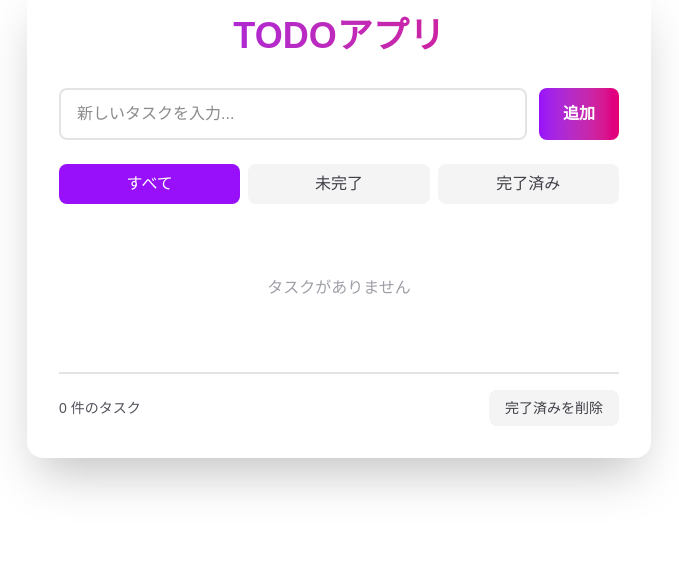
TodoList › フィルター機能 › 「未完了」フィルターで未完了タスクのみ表示されること
Type "未完了タスク1" into the field with placeholder "新しいタスクを入力..." at [293, 114], box x1=59 y1=88 x2=527 y2=140
Then press Enter
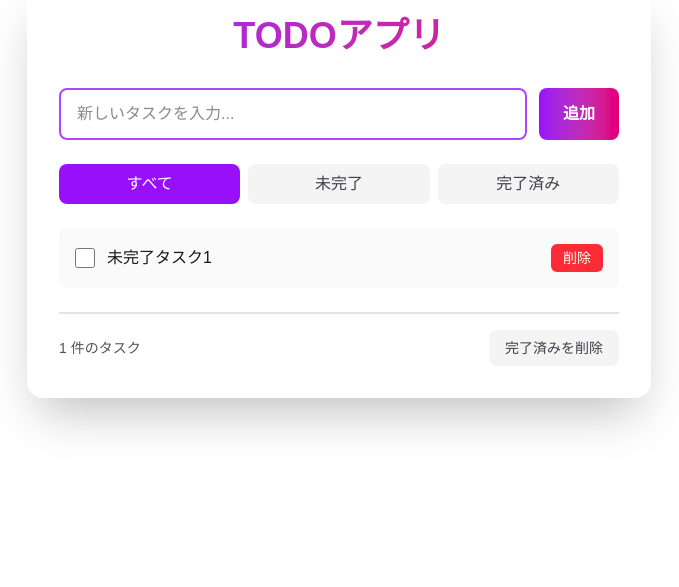
Type "未完了タスク2" into the field with placeholder "新しいタスクを入力..." at [293, 114], box x1=59 y1=88 x2=527 y2=140
Then press Enter
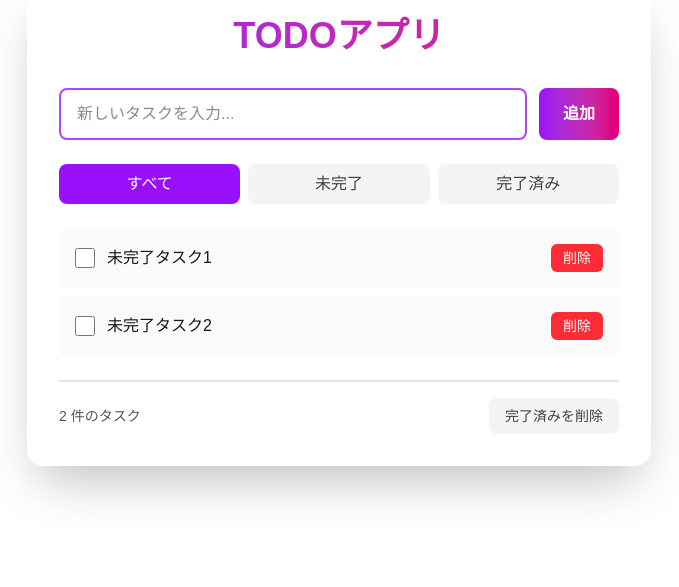
Type "完了予定タスク" into the field with placeholder "新しいタスクを入力..." at [293, 114], box x1=59 y1=88 x2=527 y2=140
Then press Enter
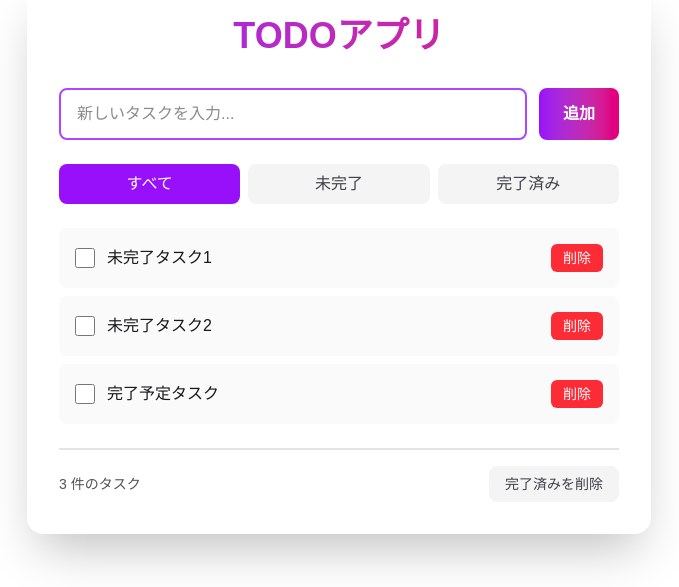
Click the checkbox next to "完了予定タスク" at [85, 394], box x1=75 y1=384 x2=95 y2=404
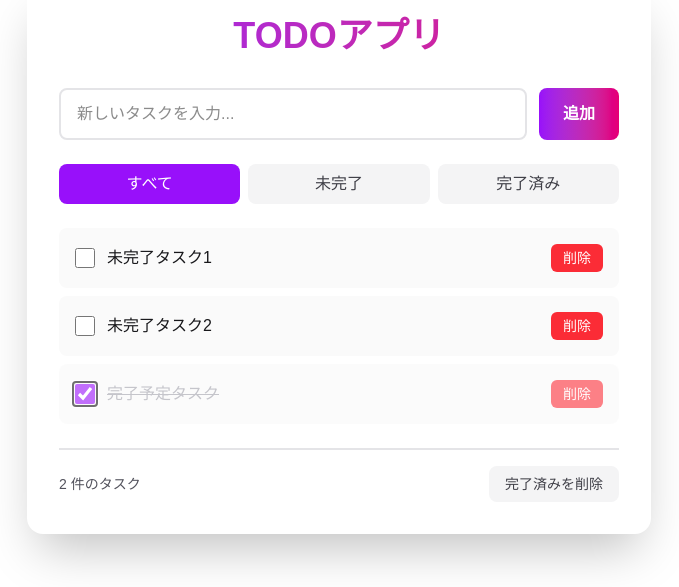
Click the button "未完了" at [339, 184], box x1=248 y1=164 x2=430 y2=204
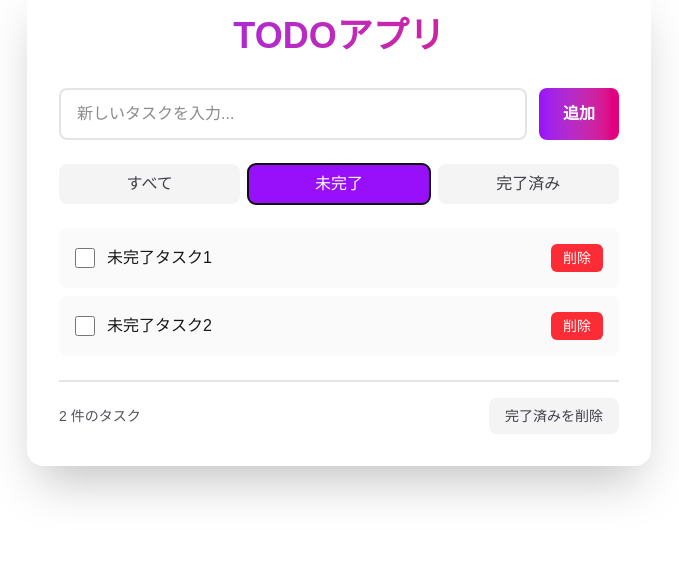
expect the text "未完了タスク1" is shown: met, box x1=107 y1=249 x2=212 y2=266
expect the text "未完了タスク2" is shown: met, box x1=107 y1=317 x2=212 y2=334
expect the text "完了予定タスク" is gone: met
